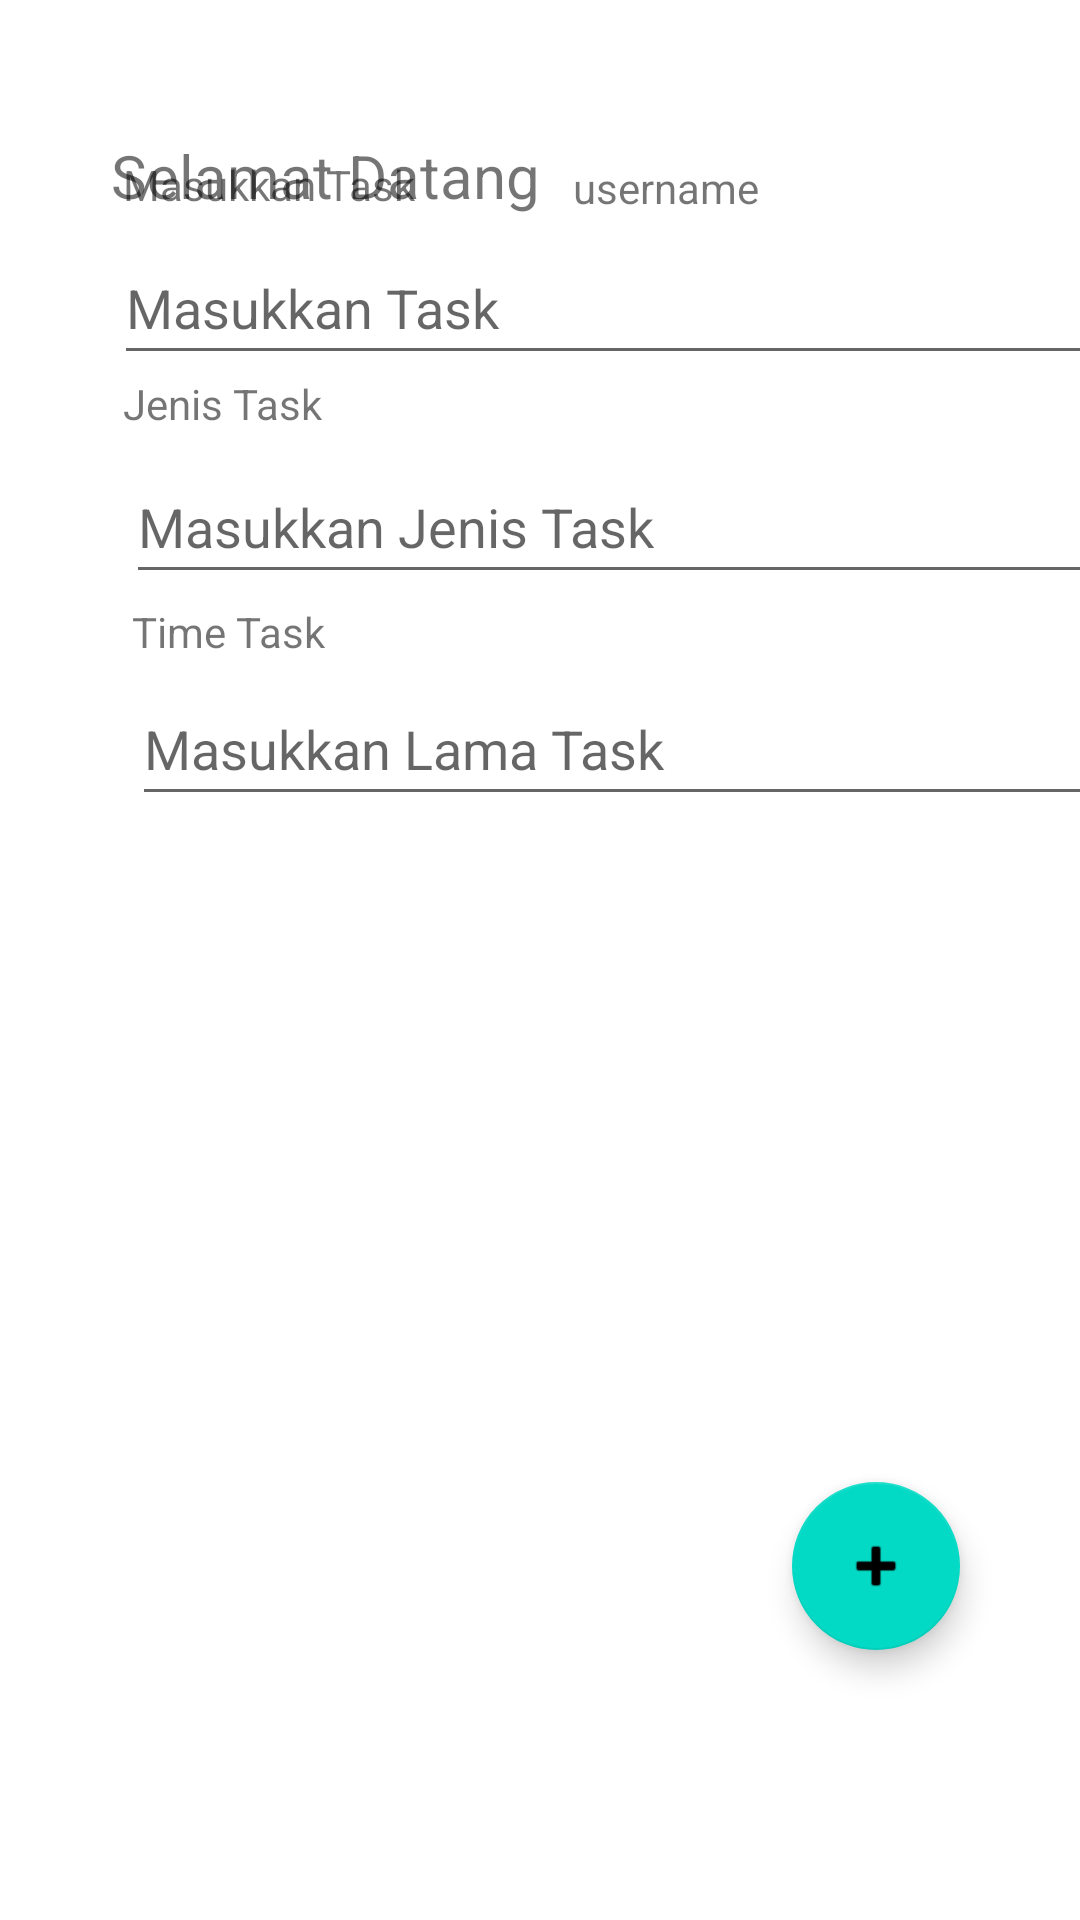

Icon bounding boxes for this 1080x1920 phone screenshot, format box(x1, y1, x2, y2):
add: box(792, 1482, 960, 1650)
